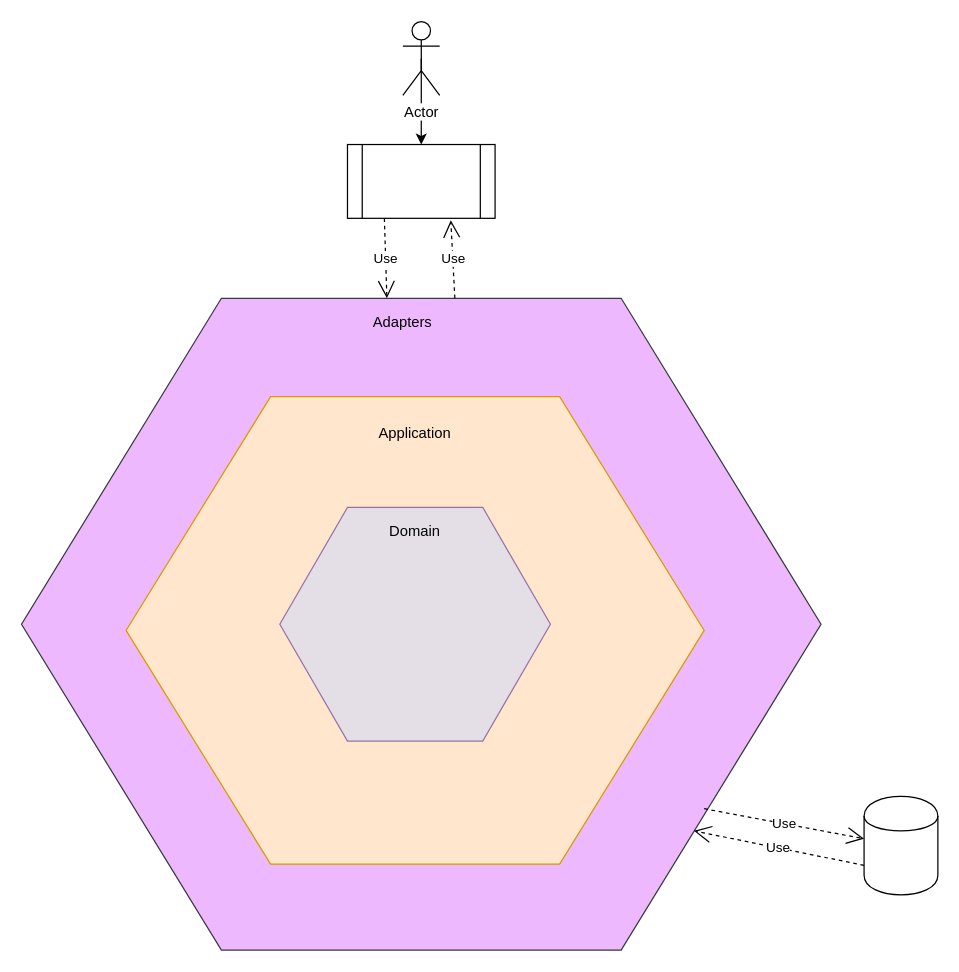
The diagram is 959 pixels wide and 972 high, and some of its shapes have lost their labels. The centre of each missing label's shape, as x and y in pixels:
"Inter-Process-Communication" belongs at [420,180].
"SQLite" belongs at [900,845].
